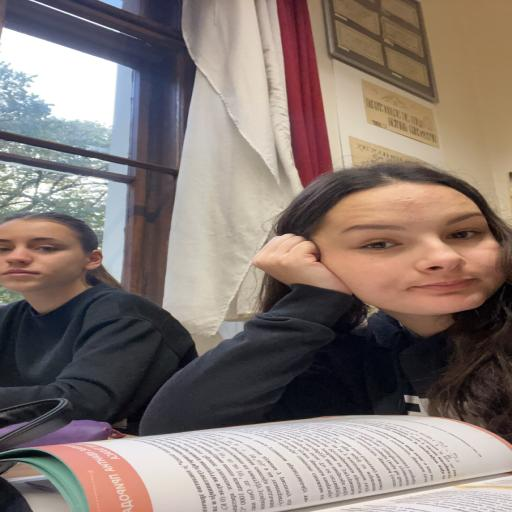marija: (321, 180, 510, 315)
masa: (0, 218, 95, 292)
